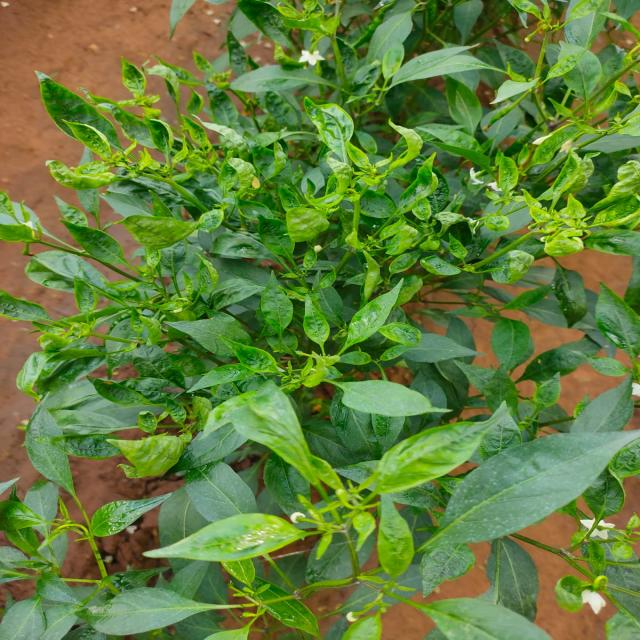Moko: (183, 419, 467, 599), (0, 174, 255, 370), (0, 434, 210, 624), (7, 47, 225, 217), (258, 278, 462, 448), (283, 88, 442, 288), (455, 96, 640, 246), (215, 0, 469, 78)
